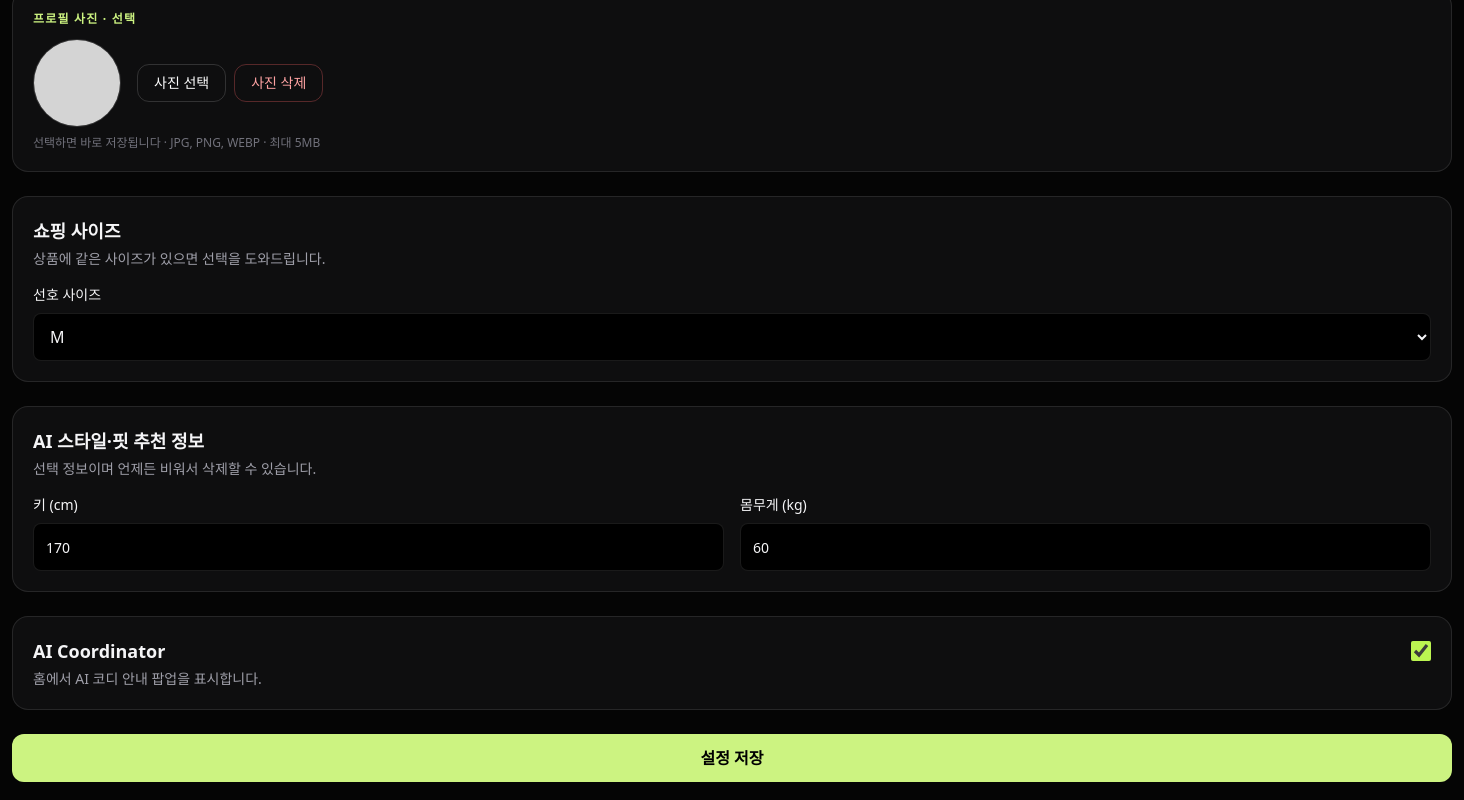
Test: UserSettingsForm › 서버 설정을 표시하고 변경값을 저장한다
The width and height of the screenshot is (1464, 800).
Select "L" in the dropdown labelled "선호 사이즈" at [732, 337], box x1=33 y1=313 x2=1431 y2=361
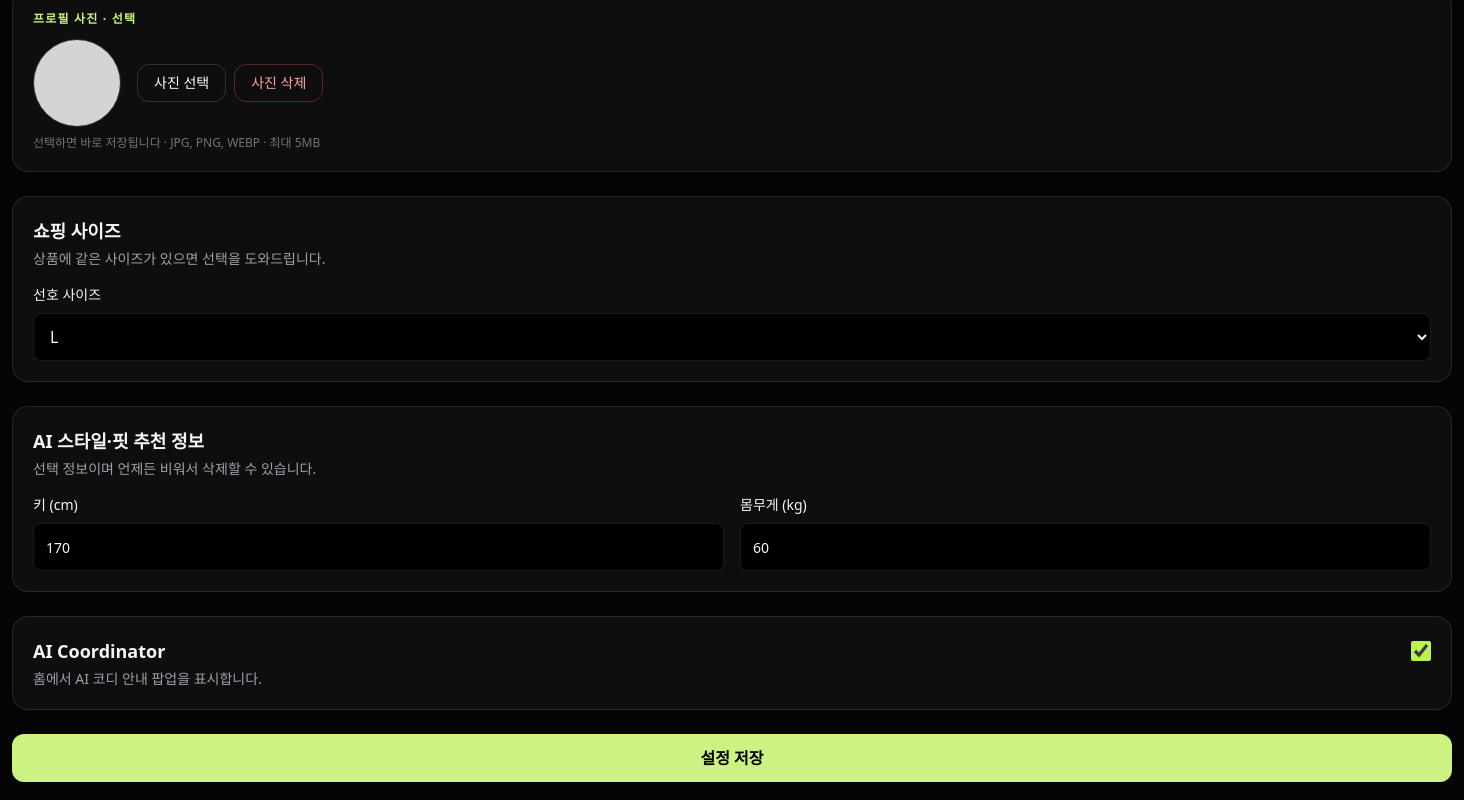
Click the checkbox named "AI Coordinator 표시".
click(1421, 651)  # box x1=1411 y1=641 x2=1431 y2=661
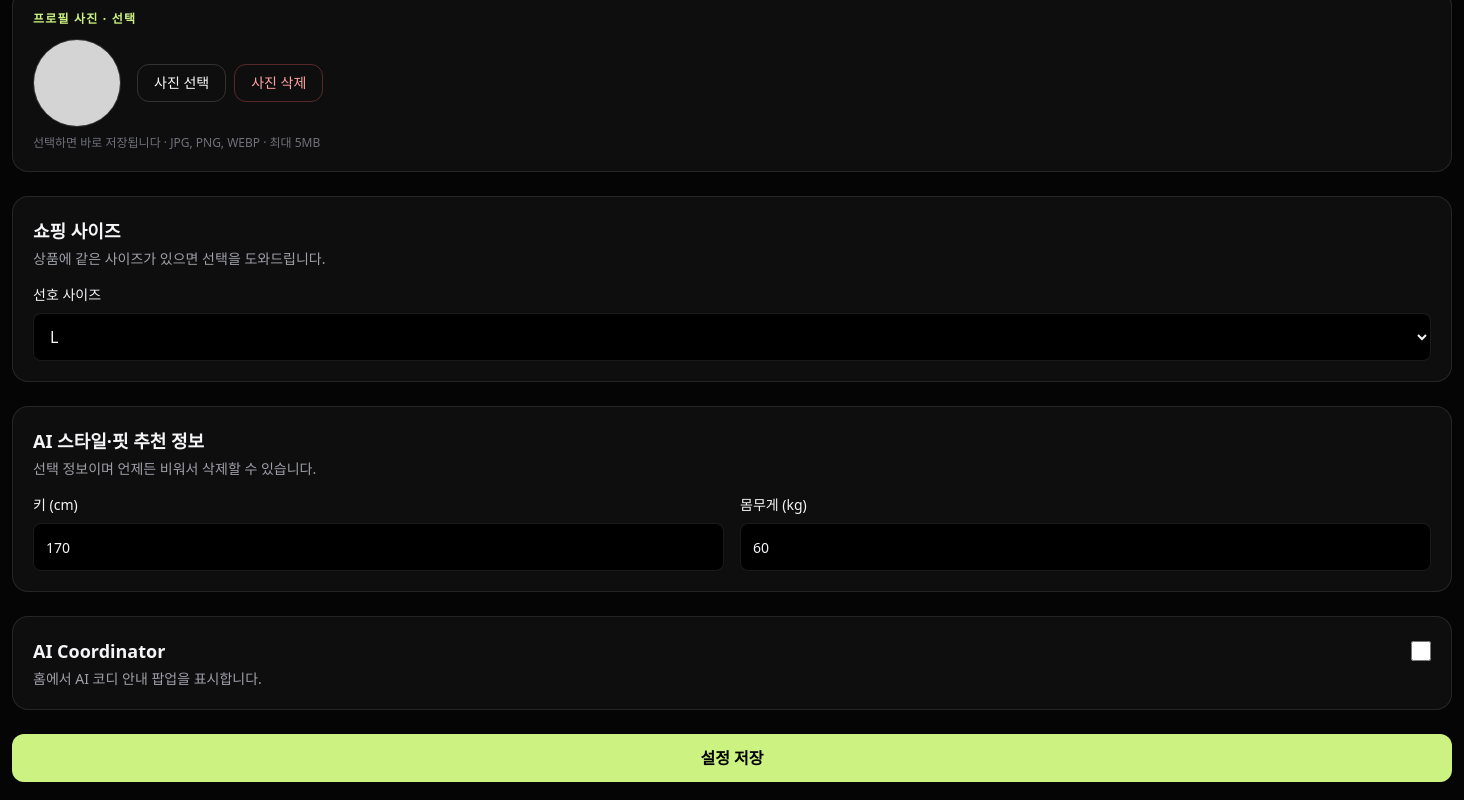
Clear the number field labelled "키 (cm)" at [378, 547], box x1=33 y1=523 x2=724 y2=571
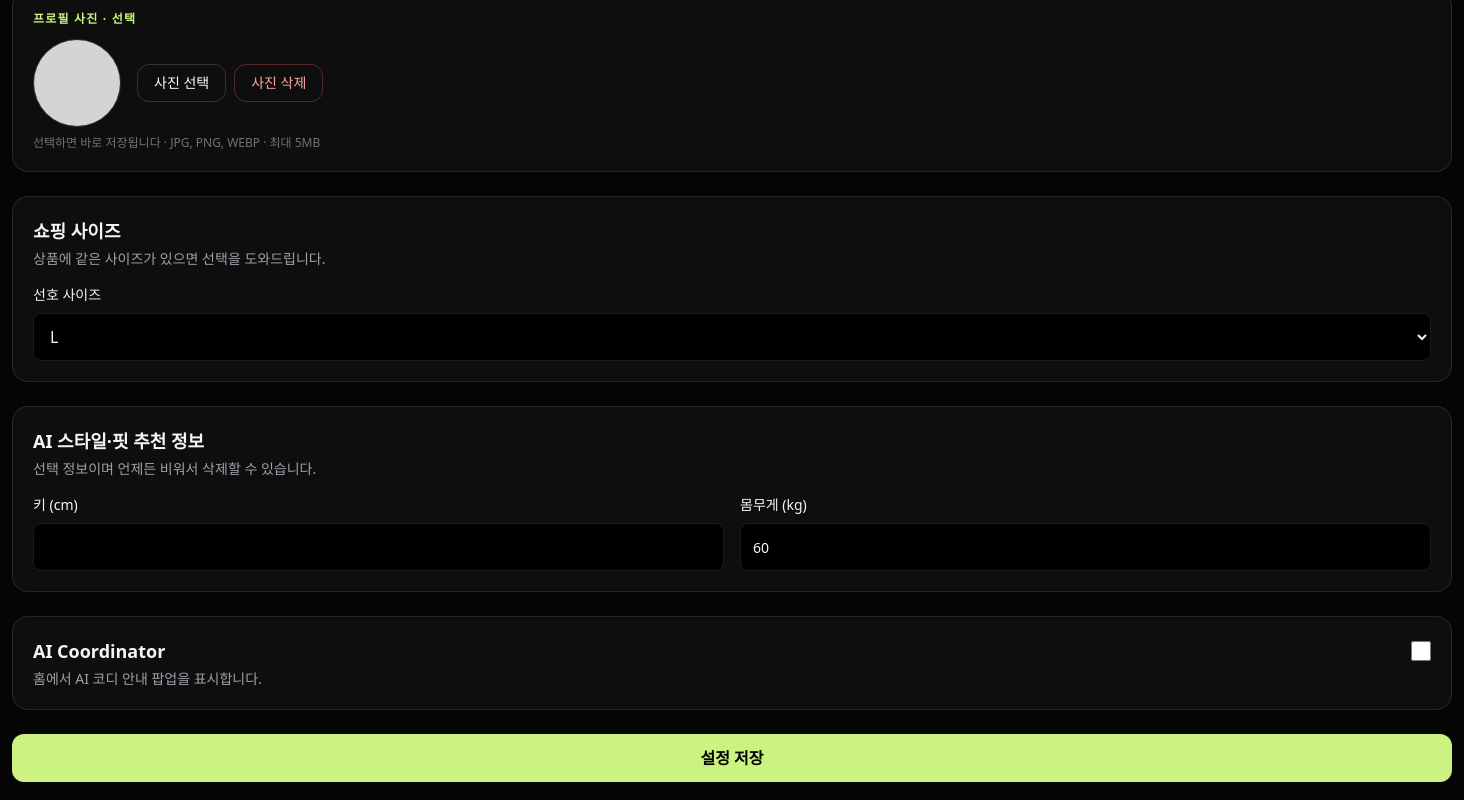
Clear the number field labelled "몸무게 (kg)" at [1086, 547], box x1=740 y1=523 x2=1431 y2=571
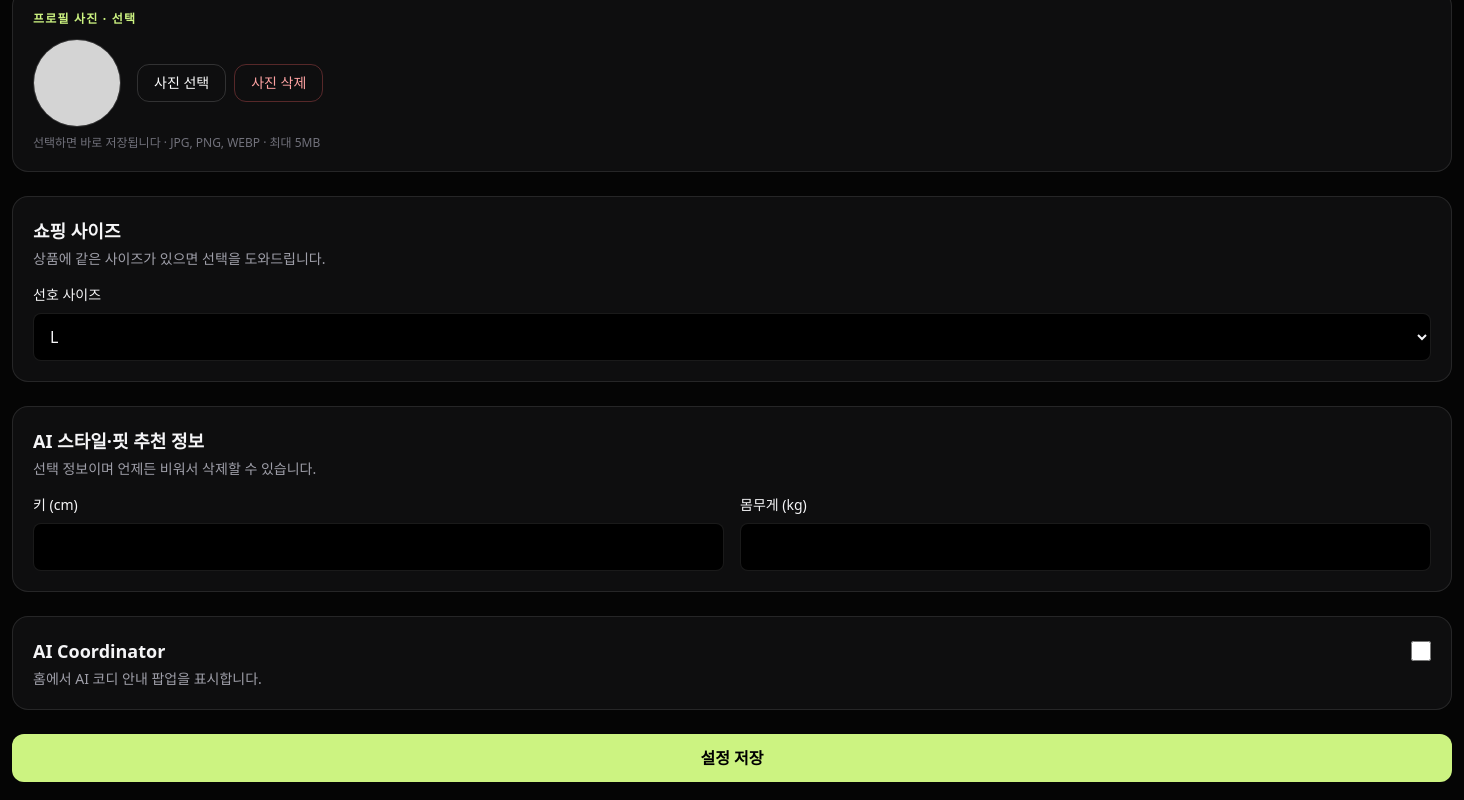
Click the button "설정 저장".
click(732, 758)  # box x1=12 y1=734 x2=1452 y2=782
(page scrolled)
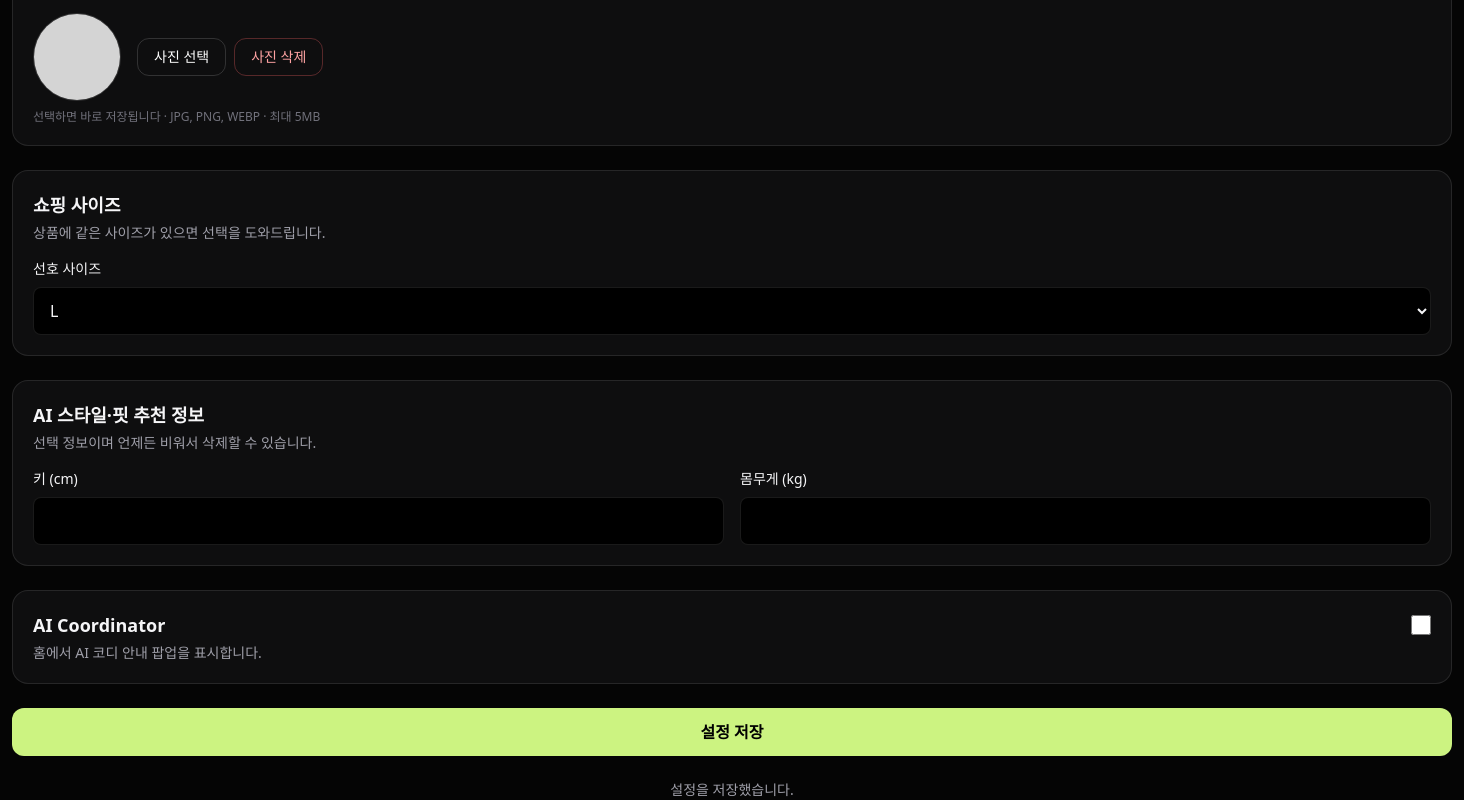
Expected: the message shows "저장했습니다", x1=670 y1=780 x2=794 y2=799
